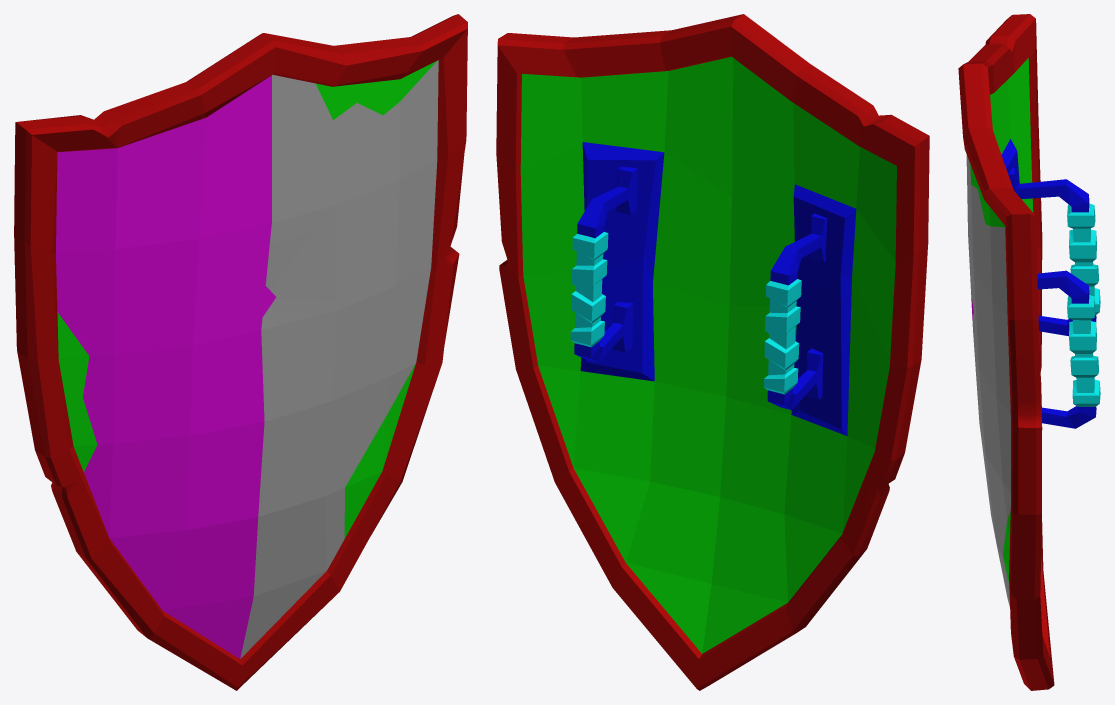
Rendered from Sheild_Common_Heraldic_02.fbx.
The picture shows the model from 3 angles, left to right: view 1: azimuth 30°, elevation 25°; view 2: azimuth 150°, elevation 25°; view 3: azimuth 270°, elevation 25°; orthographic projection. The views are drawn at different scales.
Parts seen in each view (by area): view 1: SM_Wep_Shield_06; view 2: SM_Wep_Shield_06; view 3: SM_Wep_Shield_06.
Boxes of the visible parts, x1,y1,x2,y2 form: SM_Wep_Shield_06: [14, 14, 467, 690]; SM_Wep_Shield_06: [496, 14, 929, 690]; SM_Wep_Shield_06: [958, 14, 1100, 690].
Size of the model in its own units: 66.84 by 97.74 by 20.07.
